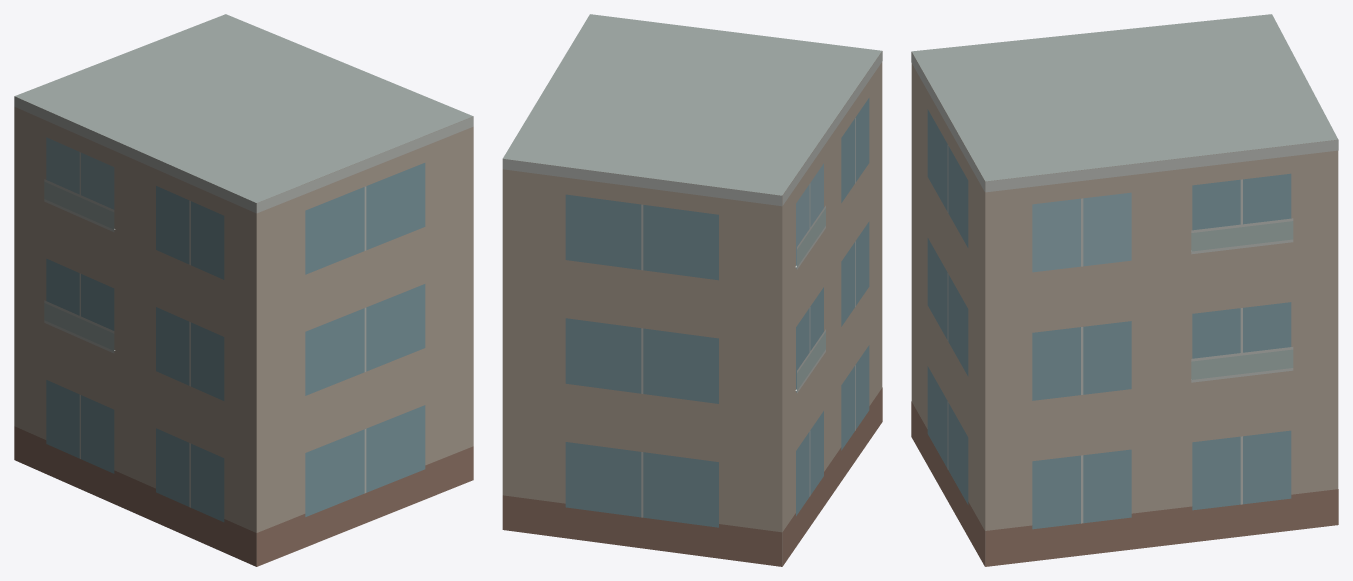
The model's file is survey-upis-32930370.glb.
3 views of the same model, side by side, from view 1: azimuth 30°, elevation 25°; view 2: azimuth 150°, elevation 25°; view 3: azimuth 270°, elevation 25° (orthographic). The views are drawn at different scales.
Parts seen in each view (by area): view 1: survey-upis-32930370.tmp; view 2: survey-upis-32930370.tmp; view 3: survey-upis-32930370.tmp.
Part boxes in pixels (left/top/right/bottom): survey-upis-32930370.tmp: left=14, top=14, right=473, bottom=566; survey-upis-32930370.tmp: left=502, top=14, right=882, bottom=566; survey-upis-32930370.tmp: left=911, top=14, right=1338, bottom=566.
Bounding box in the file's own units: 8 × 8.57 × 8.62.
